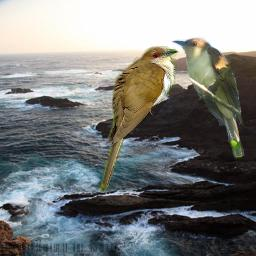Cuckoo: (99, 46, 179, 193), (169, 36, 247, 163)
